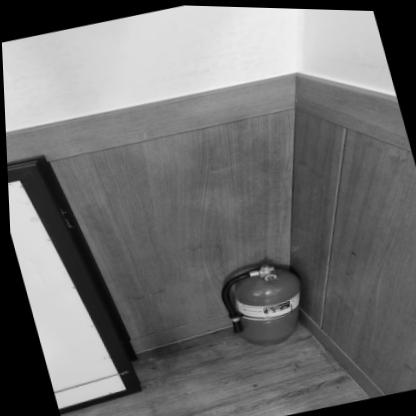FE: (212, 256, 314, 353)
